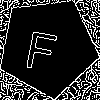F: (23, 22, 61, 72)
